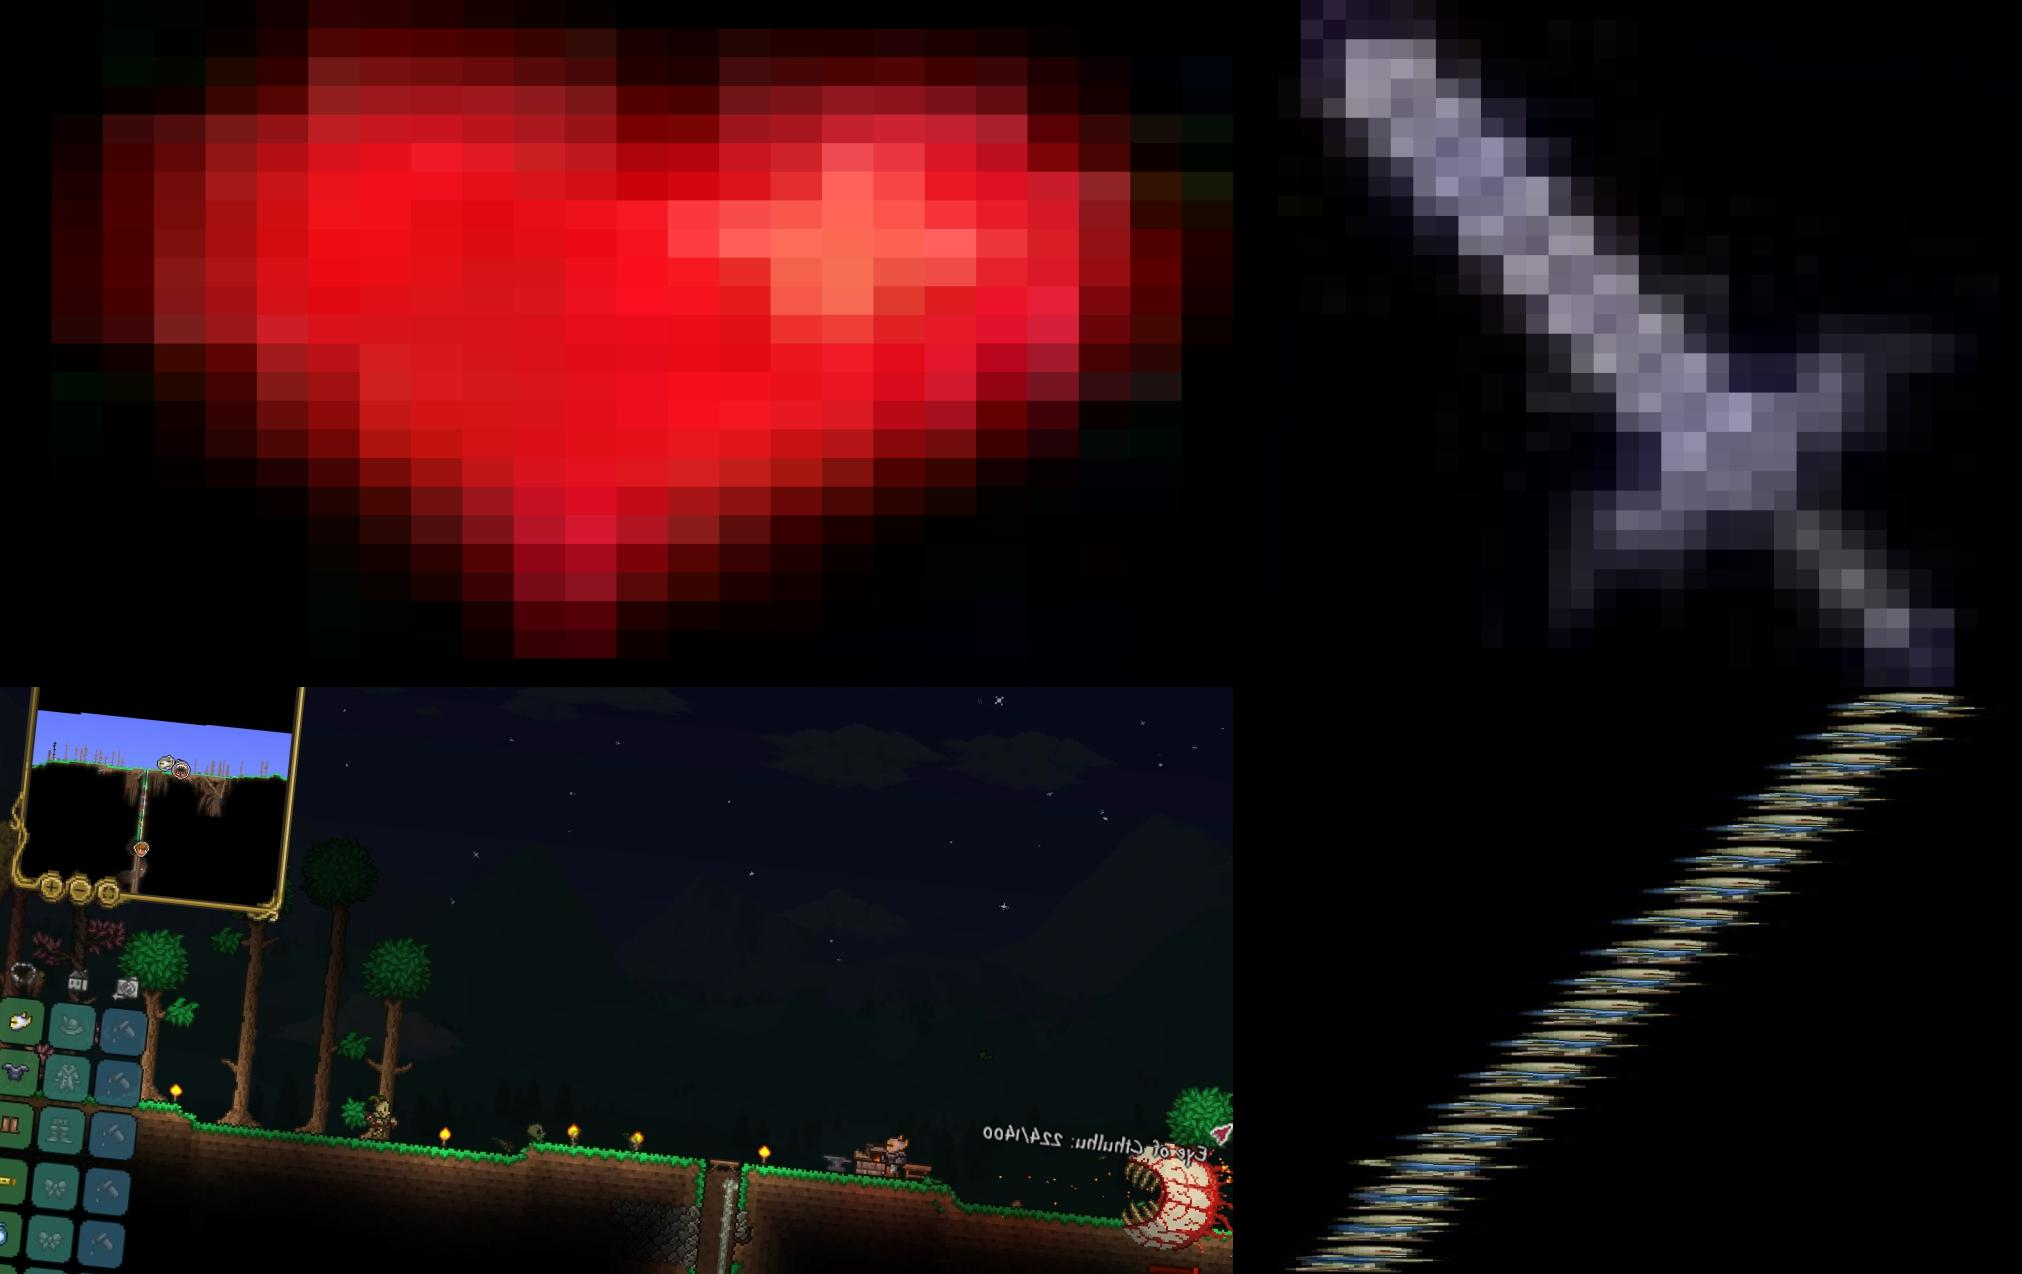eyeC: (1103, 1129, 1233, 1273)
heart: (0, 0, 1233, 687)
sword: (1233, 0, 2022, 687)
zombie: (1786, 688, 2022, 721)
